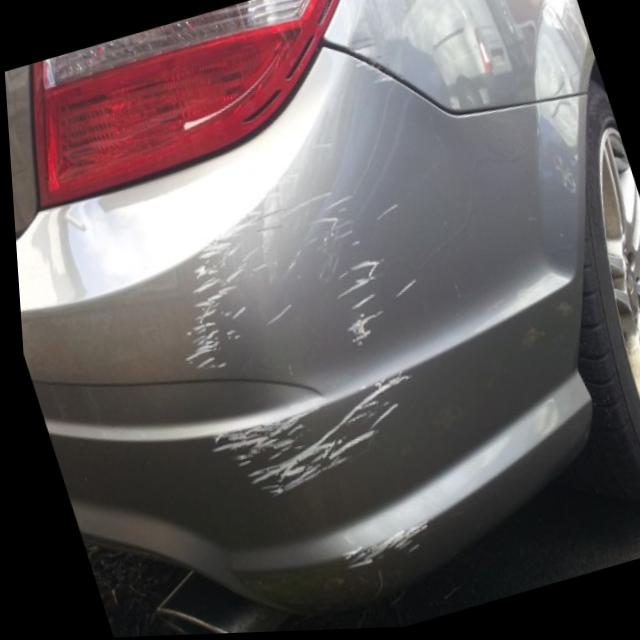Scratch: (186, 193, 389, 504), (328, 511, 420, 579)
